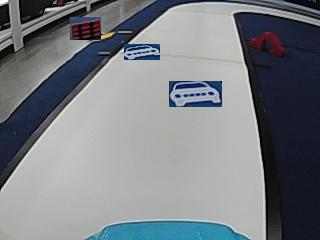bridge: (251, 31, 284, 56)
